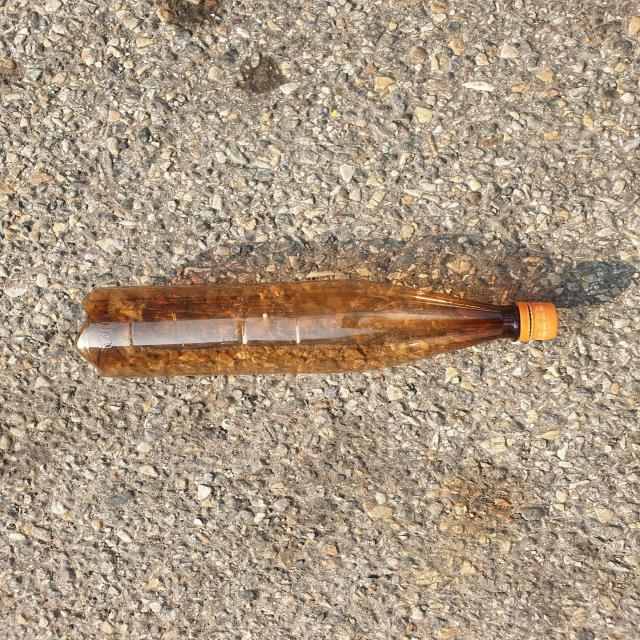plastic: (76, 281, 557, 377)
